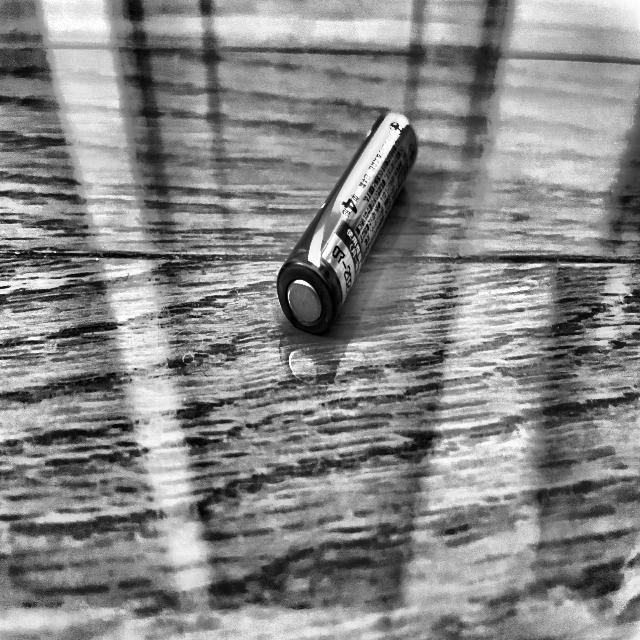drycell: (270, 109, 422, 336)
